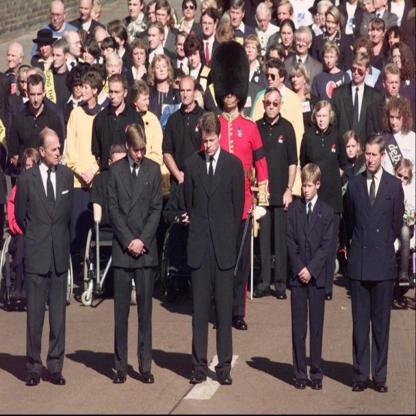face: (222, 83, 239, 108), (44, 140, 61, 165), (204, 130, 220, 156), (366, 146, 381, 171), (303, 175, 317, 199), (266, 95, 280, 119), (110, 84, 125, 106), (130, 143, 146, 163), (391, 109, 405, 131), (181, 82, 195, 104), (29, 87, 43, 108), (230, 6, 244, 27), (387, 74, 400, 96), (96, 34, 109, 56), (149, 29, 163, 49), (267, 70, 281, 90), (396, 169, 410, 189), (278, 7, 292, 26), (353, 63, 366, 83), (317, 109, 330, 129), (51, 7, 64, 26), (202, 17, 215, 36), (8, 49, 20, 69), (137, 93, 150, 111), (296, 35, 309, 53), (246, 42, 259, 60), (108, 58, 119, 79), (346, 139, 358, 158), (54, 48, 66, 67), (133, 48, 146, 65), (177, 37, 188, 57), (368, 24, 378, 46), (157, 61, 169, 79), (84, 46, 96, 64), (189, 49, 201, 67), (293, 71, 305, 89), (282, 27, 293, 46), (26, 159, 37, 178), (83, 84, 95, 101), (71, 36, 81, 56), (315, 7, 325, 27), (39, 38, 50, 56), (80, 2, 91, 20), (325, 51, 336, 69), (128, 2, 141, 17), (259, 12, 269, 31), (157, 8, 168, 25), (327, 17, 338, 34), (74, 78, 84, 96), (394, 51, 404, 69), (112, 36, 122, 54), (21, 75, 31, 92), (320, 9, 330, 26), (149, 7, 160, 22), (184, 3, 195, 18), (390, 34, 401, 49), (373, 28, 383, 44), (105, 47, 114, 63), (374, 1, 386, 9), (364, 1, 372, 13)
